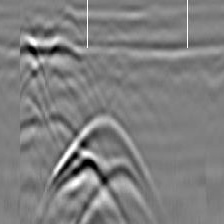Utility: (50, 113, 154, 224), (20, 33, 84, 96)
